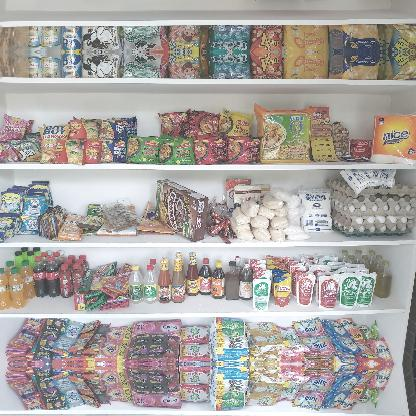Koko-Krunch: (154, 177, 210, 243)
